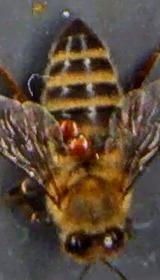varroa_mite: (57, 132, 98, 164), (54, 117, 88, 141)
